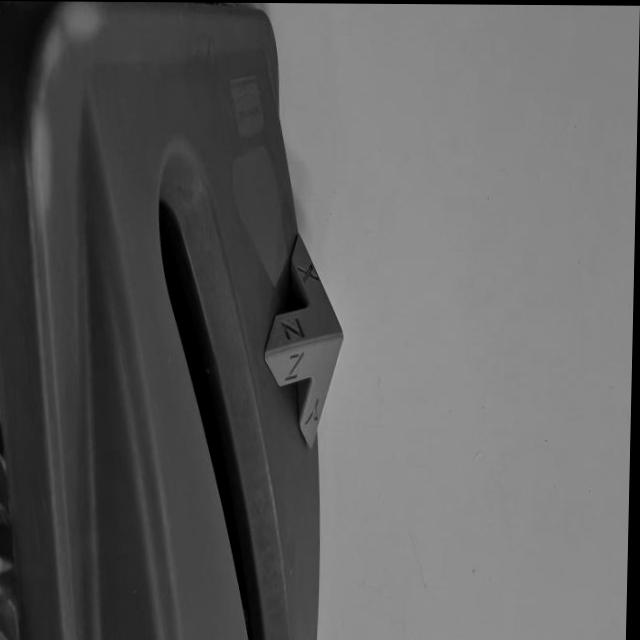eje: (261, 231, 347, 450)
